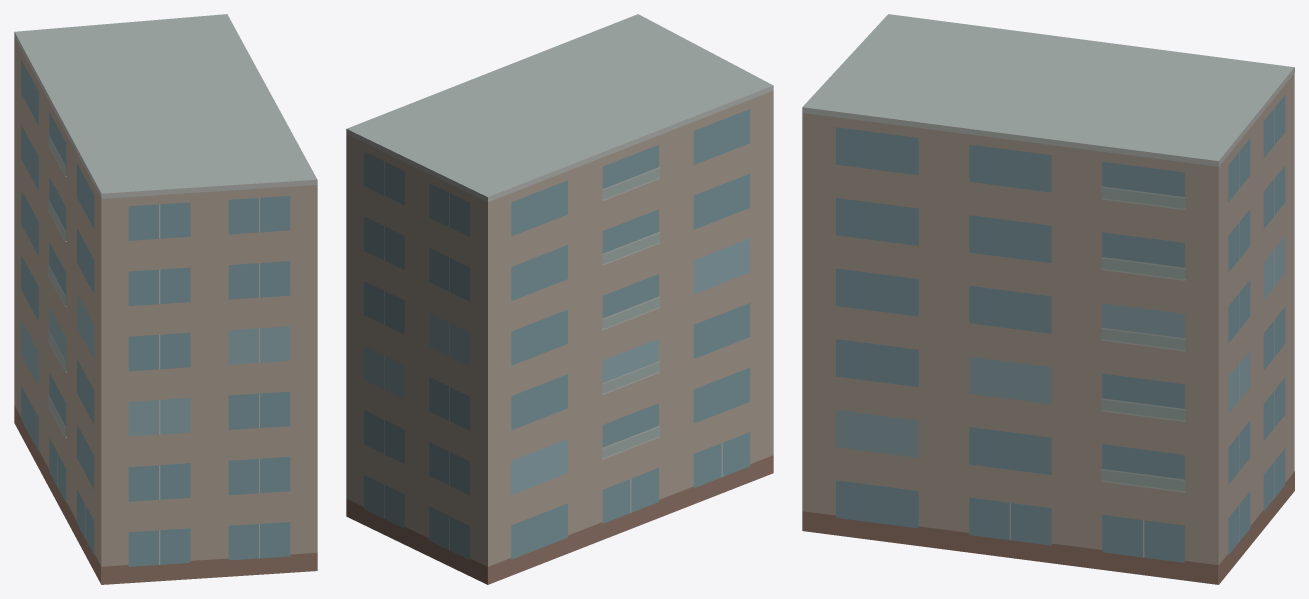
File: survey-upis-33019496.glb
3 renders of one model, left to right at view 1: azimuth 30°, elevation 25°; view 2: azimuth 150°, elevation 25°; view 3: azimuth 270°, elevation 25°, orthographic. The views are drawn at different scales.
Visible parts, largest first — view 1: survey-upis-33019496.tmp; view 2: survey-upis-33019496.tmp; view 3: survey-upis-33019496.tmp.
Boxes of the visible parts, box(x1,y1,x2,y2) form: survey-upis-33019496.tmp: box(14, 14, 317, 584); survey-upis-33019496.tmp: box(346, 14, 773, 584); survey-upis-33019496.tmp: box(802, 14, 1294, 584).
Size of the model in its own units: 13.71 by 18.4 by 19.39.
